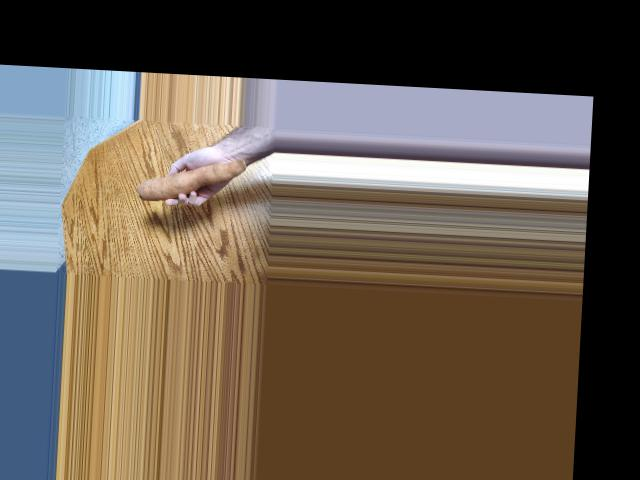sweet_potato: (120, 159, 233, 211)
